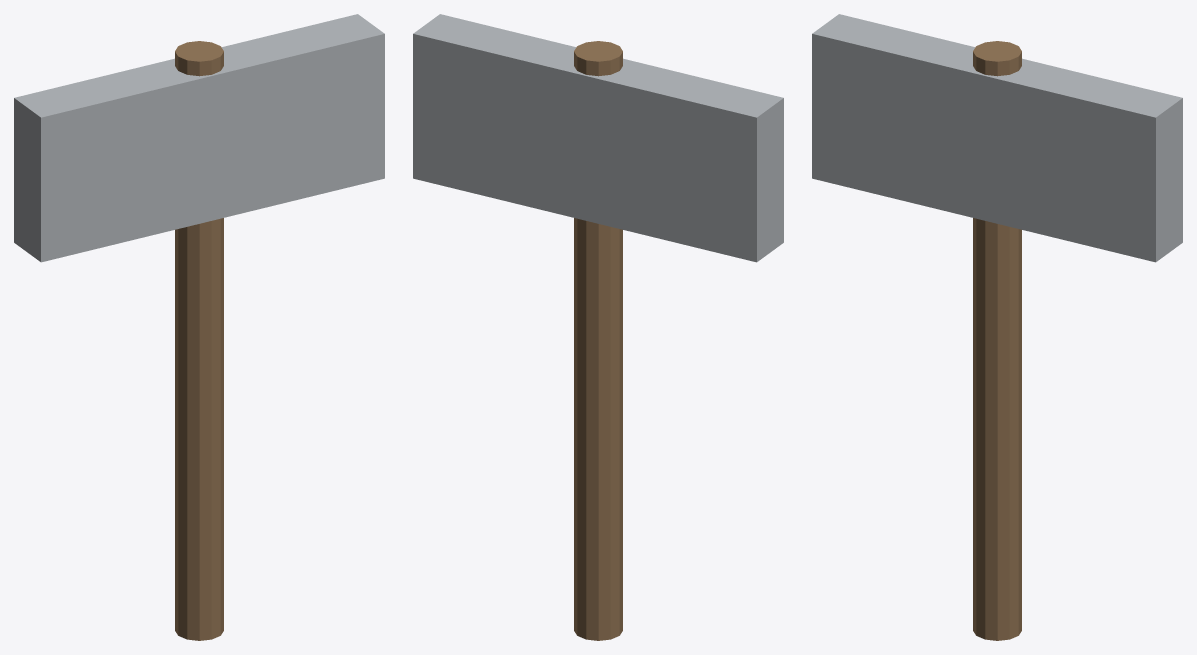
Rendered from giant_double_axe.glb.
3 renders of one model, left to right at view 1: azimuth 30°, elevation 25°; view 2: azimuth 150°, elevation 25°; view 3: azimuth 330°, elevation 25°, orthographic.
Visible parts, largest first — view 1: axe_0_2, axe_0_1, axe_0_0; view 2: axe_0_2, axe_0_1, axe_0_0; view 3: axe_0_1, axe_0_2, axe_0_0.
Boxes of the visible parts, bbox=[...] form: axe_0_2: bbox=[14, 55, 243, 262]; axe_0_1: bbox=[156, 14, 384, 227]; axe_0_0: bbox=[175, 41, 223, 640]; axe_0_2: bbox=[554, 56, 783, 262]; axe_0_1: bbox=[413, 14, 641, 227]; axe_0_0: bbox=[574, 41, 622, 640]; axe_0_1: bbox=[953, 55, 1182, 262]; axe_0_2: bbox=[812, 14, 1040, 226]; axe_0_0: bbox=[973, 41, 1021, 640].
Size of the model in its own units: 3.23 by 5.2 by 0.44.
